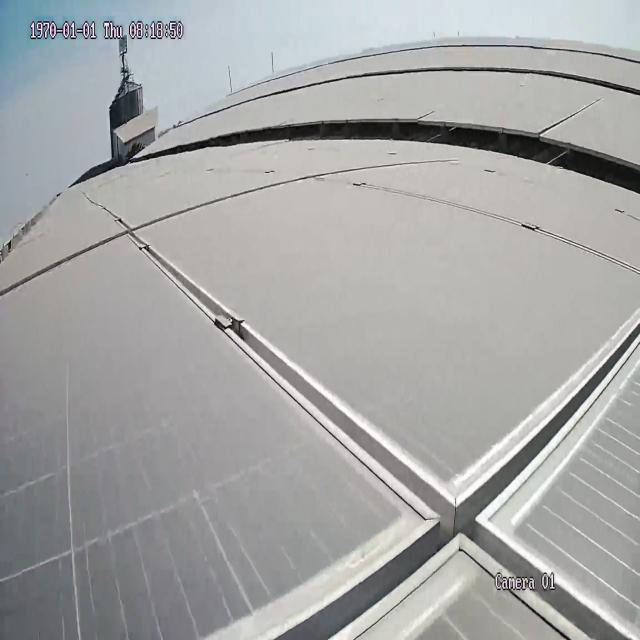interior panel: (132, 233, 640, 640), (6, 159, 403, 314)
outher panel: (141, 117, 637, 200)
